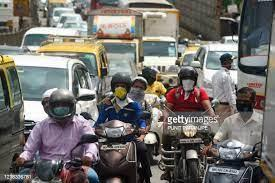helmet: (48, 88, 76, 123), (110, 71, 132, 99), (178, 66, 198, 91), (142, 66, 160, 85)
nohelmet: (236, 86, 257, 115), (220, 53, 238, 71)
